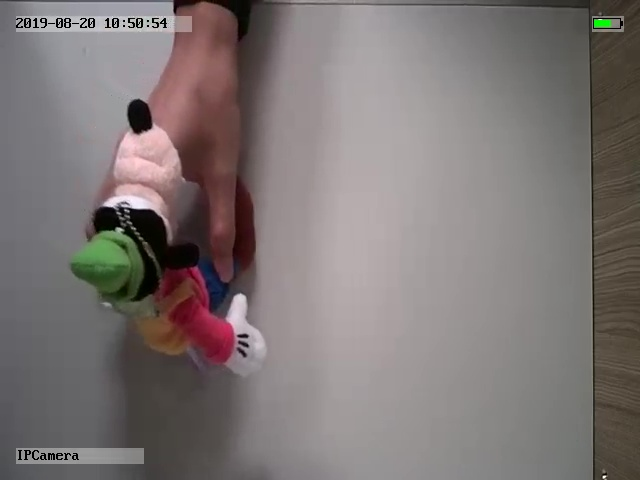goofy: (69, 98, 268, 376)
